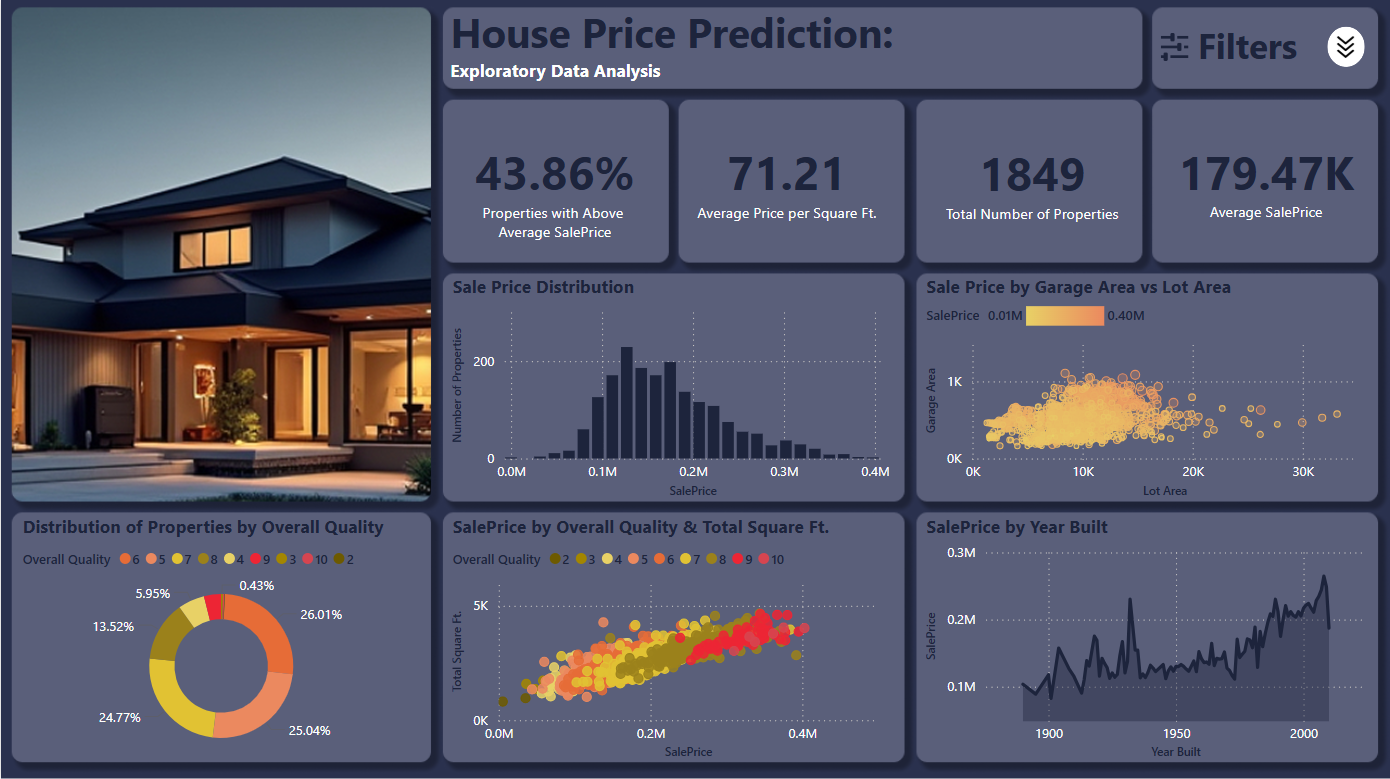

What the dashboard file says about the page in this screenshot:
{"tool":"powerbi","page":{"name":"Exploratory Data Analysis","canvas":[1280,720],"ordinal":1},"visuals":[{"type":"donutChart","title":"Distribution of Properties by Overall Quality","fields":{"Category":["cleaned_housing_prices.OverallQual"],"Y":["CountNonNull(cleaned_housing_prices.Id)"]},"box":[14.7,474.7,376,230.7],"z":0},{"type":"clusteredColumnChart","title":"Sale Price Distribution","fields":{"Y":["CountNonNull(cleaned_housing_prices.SalePrice)"],"Category":["cleaned_housing_prices.SalePrice Bins"]},"box":[410.7,253.3,413.3,210.7],"z":1000},{"type":"areaChart","fields":{"Category":["cleaned_housing_prices.YearBuilt"],"Y":["Avg(cleaned_housing_prices.SalePrice)"]},"box":[846.7,474.7,417.3,230.7],"z":2000},{"type":"scatterChart","title":"Sale Price by Garage Area vs Lot Area","fields":{"X":["cleaned_housing_prices.LotArea"],"Y":["cleaned_housing_prices.GarageArea"],"Size":["Avg(cleaned_housing_prices.SalePrice)"]},"box":[846.7,253.3,417.3,210.7],"z":3000},{"type":"scatterChart","title":"SalePrice by Overall Quality & Total Square Ft.","fields":{"X":["Avg(cleaned_housing_prices.SalePrice)"],"Series":["cleaned_housing_prices.OverallQual"],"Y":["cleaned_housing_prices.TotalSF"]},"box":[410.7,474.7,416,230.7],"z":4000},{"type":"card","fields":{"Values":["Avg(cleaned_housing_prices.SalePrice)"]},"box":[1065.3,97.3,198.7,138.7],"z":5000},{"type":"card","fields":{"Values":["Count(cleaned_housing_prices.Id)"]},"box":[846.7,98.7,205.3,138.7],"z":6000},{"type":"card","fields":{"Values":["Housing_Price_Measures.AvgPricePerSqFoot"]},"box":[624,74.7,200,185.3],"z":7000},{"type":"card","fields":{"Values":["Housing_Price_Measures.AboveAvgPercentage"]},"box":[410.7,82.7,198.7,169.3],"z":8000},{"type":"textbox","box":[408,0,632,85.3],"z":10000},{"type":"image","box":[1056,24,48,40],"z":11000,"group":"g2"},{"type":"textbox","box":[1096,16,125.3,52],"z":12000,"group":"g2"},{"type":"shape","box":[1221.4,25.3,34.7,37.2],"z":13000,"group":"g1"},{"type":"image","box":[1218.7,21.3,38.7,44],"z":13500,"group":"g1"},{"type":"group","id":"g1","title":"Filter Down Button","box":[1218.7,19.3,39.1,48],"z":14001,"group":"g2"},{"type":"group","id":"g2","title":"Filter Label","box":[1056,16,201.8,52],"z":14002}]}

Visuals, with their boxes in screenshot pixels (x1, y1, x2, y2), scaled from the page's 1280x720 canvas onto the 1390x779 screenshot:
"Distribution of Properties by Overall Quality" donutChart: {"x1": 16, "y1": 514, "x2": 424, "y2": 763}
"Sale Price Distribution" clusteredColumnChart: {"x1": 446, "y1": 274, "x2": 895, "y2": 502}
areaChart - cleaned_housing_prices.YearBuilt x Avg(cleaned_housing_prices.SalePrice): {"x1": 919, "y1": 514, "x2": 1373, "y2": 763}
"Sale Price by Garage Area vs Lot Area" scatterChart: {"x1": 919, "y1": 274, "x2": 1373, "y2": 502}
"SalePrice by Overall Quality & Total Square Ft." scatterChart: {"x1": 446, "y1": 514, "x2": 898, "y2": 763}
card - Avg(cleaned_housing_prices.SalePrice): {"x1": 1157, "y1": 105, "x2": 1373, "y2": 255}
card - Count(cleaned_housing_prices.Id): {"x1": 919, "y1": 107, "x2": 1142, "y2": 257}
card - Housing_Price_Measures.AvgPricePerSqFoot: {"x1": 678, "y1": 81, "x2": 895, "y2": 281}
card - Housing_Price_Measures.AboveAvgPercentage: {"x1": 446, "y1": 89, "x2": 662, "y2": 273}
textbox: {"x1": 443, "y1": 0, "x2": 1129, "y2": 92}
image: {"x1": 1147, "y1": 26, "x2": 1199, "y2": 69}
textbox: {"x1": 1190, "y1": 17, "x2": 1326, "y2": 74}
shape: {"x1": 1326, "y1": 27, "x2": 1364, "y2": 68}
image: {"x1": 1323, "y1": 23, "x2": 1365, "y2": 71}
"Filter Down Button" group: {"x1": 1323, "y1": 21, "x2": 1366, "y2": 73}
"Filter Label" group: {"x1": 1147, "y1": 17, "x2": 1366, "y2": 74}
